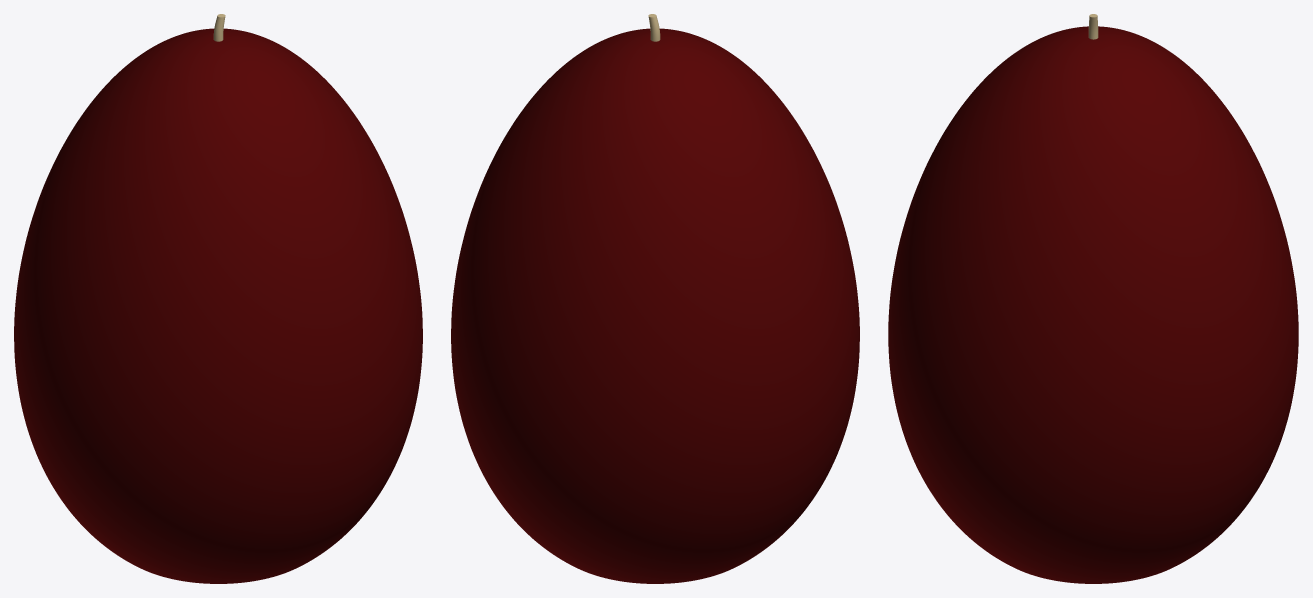
3 views of the same model, side by side, from view 1: azimuth 30°, elevation 25°; view 2: azimuth 150°, elevation 25°; view 3: azimuth 270°, elevation 25° (orthographic).
Visible parts, largest first — view 1: part_000_Egg_wax_body; view 2: part_000_Egg_wax_body; view 3: part_000_Egg_wax_body.
Boxes of the visible parts, x1,y1,x2,y2 form: part_000_Egg_wax_body: (14,28,422,583); part_000_Egg_wax_body: (451,28,859,583); part_000_Egg_wax_body: (888,26,1298,583).
Bounding box in the file's own units: 0.072 × 0.1025 × 0.072.
